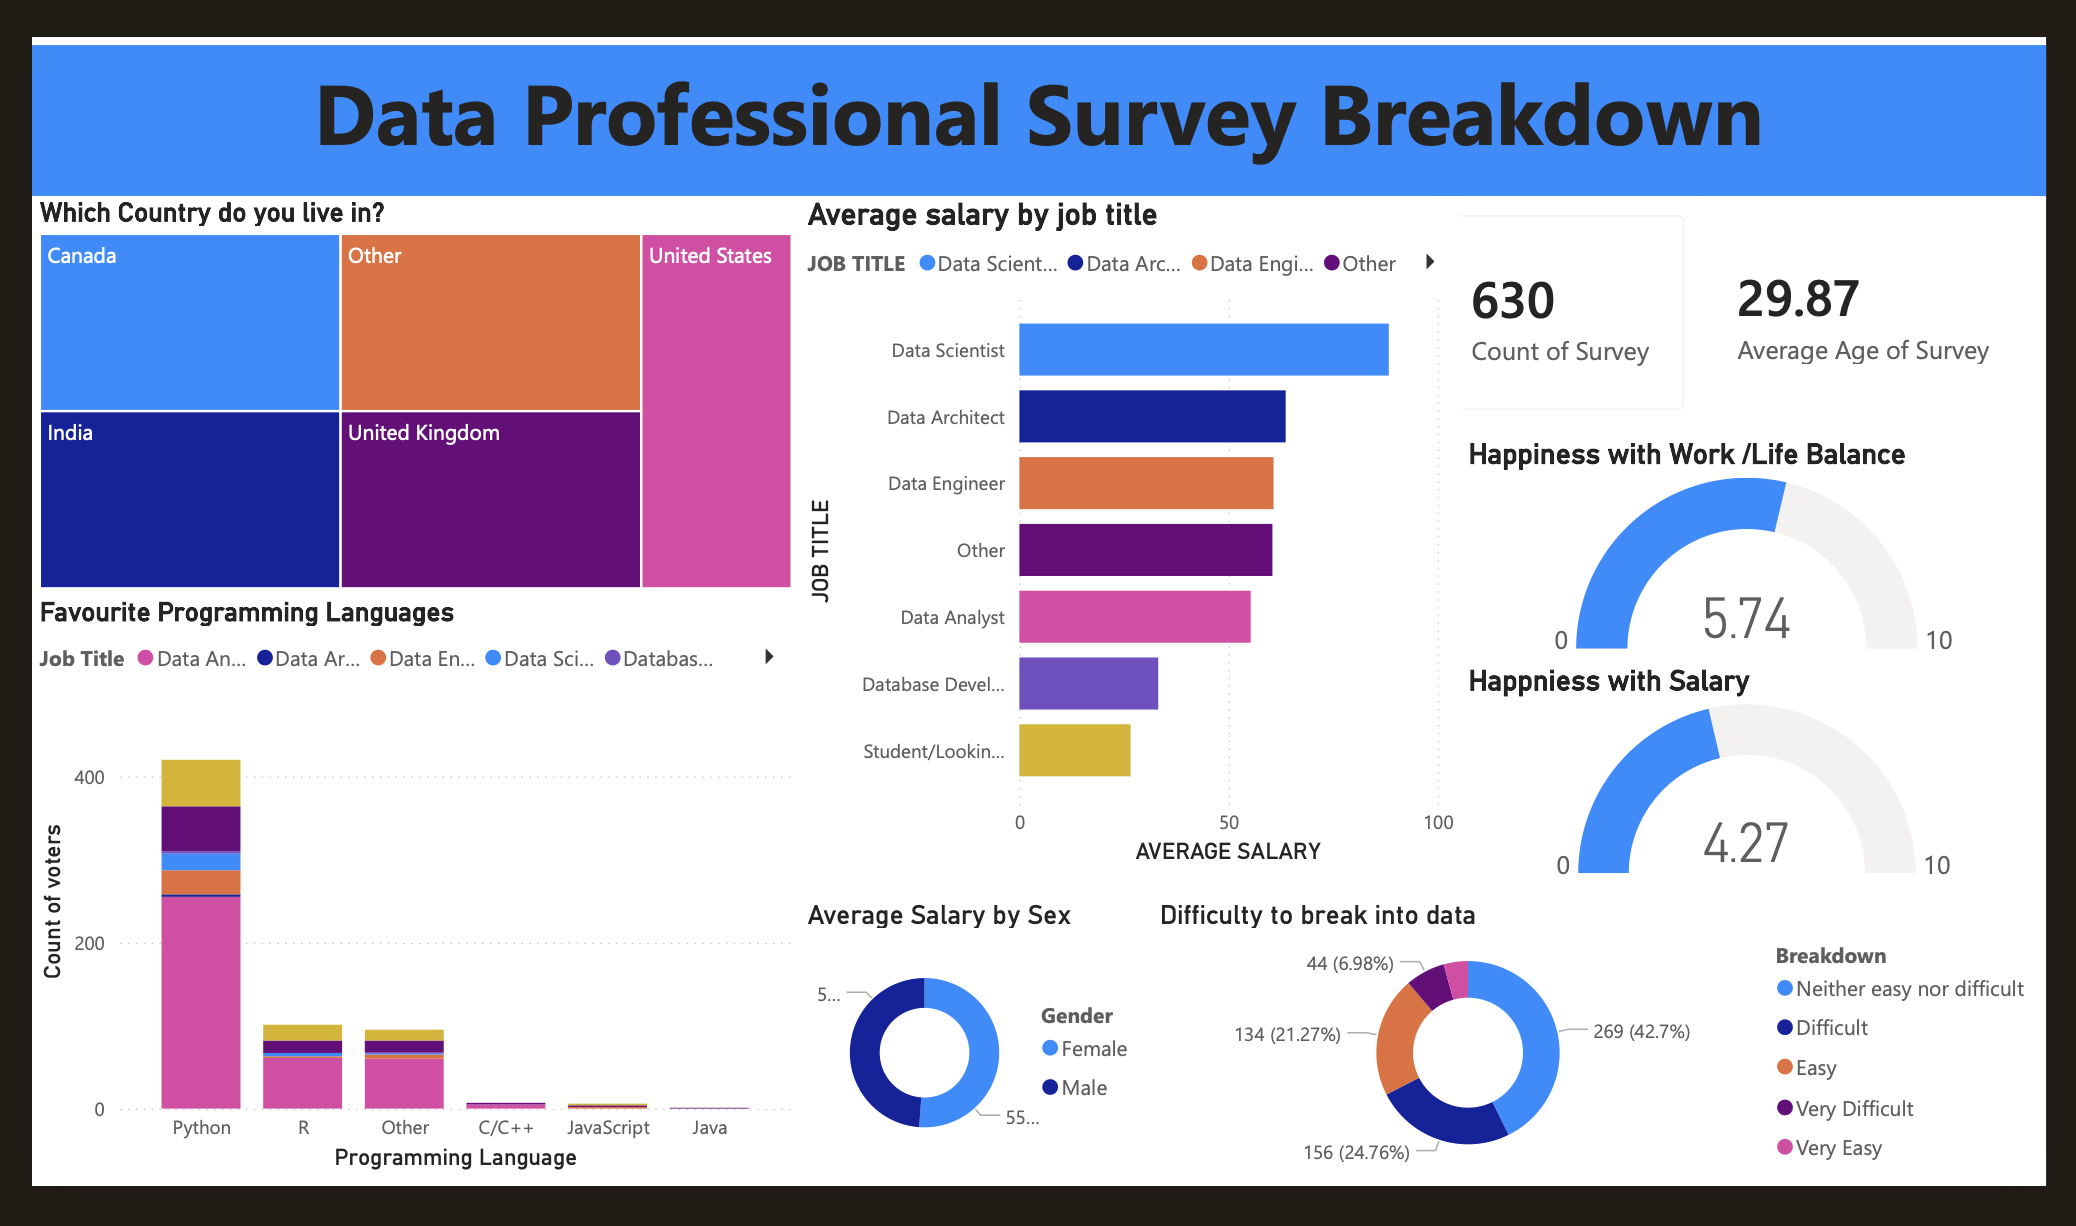

The page's visual inventory and layout, read from the dashboard file:
{"tool":"powerbi","page":{"name":"Page 1","canvas":[1280,720],"ordinal":0},"visuals":[{"type":"textbox","box":[0,0,1280,96],"z":0},{"type":"cardVisual","fields":{"Data":["Count(Data Professional Survey.Unique ID)"]},"box":[884.8,90.8,182.9,158.3],"z":1000},{"type":"cardVisual","title":"Average Salary by job title","fields":{"Data":["Avg(Data Professional Survey.Q10 - Current Age)"]},"box":[1054.7,90.8,225.7,158.3],"z":2000},{"type":"barChart","title":"Average salary by job title","fields":{"Category":["Data Professional Survey.Q1 - Which Title Best Fits your Current Role?.1"],"Y":["Avg(Data Professional Survey.Average Salary)"],"Series":["Data Professional Survey.Q1 - Which Title Best Fits your Current Role?.1"]},"box":[487.8,96,420.3,429.4],"z":3000},{"type":"columnChart","title":"Favourite Programming Languages","fields":{"Category":["Data Professional Survey.Q5 - Favorite Programming Language.1"],"Y":["CountNonNull(Data Professional Survey.Unique ID)"],"Series":["Data Professional Survey.Q1 - Which Title Best Fits your Current Role?.1"]},"box":[0,350.3,487.8,369.7],"z":4000},{"type":"treemap","title":"Which Country do you live in?","fields":{"Group":["Data Professional Survey.Q11 - Which Country do you live in?.1"],"Values":["Count(Data Professional Survey.Q11 - Which Country do you live in?.1)"]},"box":[0,96,487.8,254.3],"z":5000},{"type":"gauge","title":"Happiness with Work /Life Balance","fields":{"Y":["Avg(Data Professional Survey.Q6 - How Happy are you in your Current Position with the following? (Work/Life Balance))"],"MinValue":["Min(Data Professional Survey.Q6 - How Happy are you in your Current Position with the following? (Work/Life Balance))1"],"MaxValue":["Max(Data Professional Survey.Q6 - How Happy are you in your Current Position with the following? (Work/Life Balance))2"]},"box":[908.1,249.1,372.3,144],"z":6000},{"type":"gauge","title":"Happniess with Salary","fields":{"Y":["Avg(Data Professional Survey.Q6 - How Happy are you in your Current Position with the following? (Salary))"],"MinValue":["Min(Data Professional Survey.Q6 - How Happy are you in your Current Position with the following? (Salary))"],"MaxValue":["Max(Data Professional Survey.Q6 - How Happy are you in your Current Position with the following? (Salary))"]},"box":[908.1,393.1,372.3,142.7],"z":7000},{"type":"donutChart","title":"Average Salary by Sex","fields":{"Category":["Data Professional Survey.Q9 - Male/Female?"],"Y":["Avg(Data Professional Survey.Average Salary)"]},"box":[487.8,542.3,224.4,177.7],"z":8000},{"type":"donutChart","title":"Difficulty to break into data","fields":{"Category":["Data Professional Survey.Q7 - How difficult was it for you to break into Data?"],"Y":["CountNonNull(Data Professional Survey.Q7 - How difficult was it for you to break into Data?)"]},"box":[712.2,542.3,568.2,177.7],"z":9000}]}

Visuals, with their boxes on the page's 1280x720 design canvas (x1, y1, x2, y2). These are canvas units, not pixel positions in the 2076x1226 screenshot, which may show the page scaled, cropped or inside an application window:
textbox: 0/0/1280/96
cardVisual - Count(Data Professional Survey.Unique ID): 885/91/1068/249
"Average Salary by job title" cardVisual: 1055/91/1280/249
"Average salary by job title" barChart: 488/96/908/525
"Favourite Programming Languages" columnChart: 0/350/488/720
"Which Country do you live in?" treemap: 0/96/488/350
"Happiness with Work /Life Balance" gauge: 908/249/1280/393
"Happniess with Salary" gauge: 908/393/1280/536
"Average Salary by Sex" donutChart: 488/542/712/720
"Difficulty to break into data" donutChart: 712/542/1280/720
